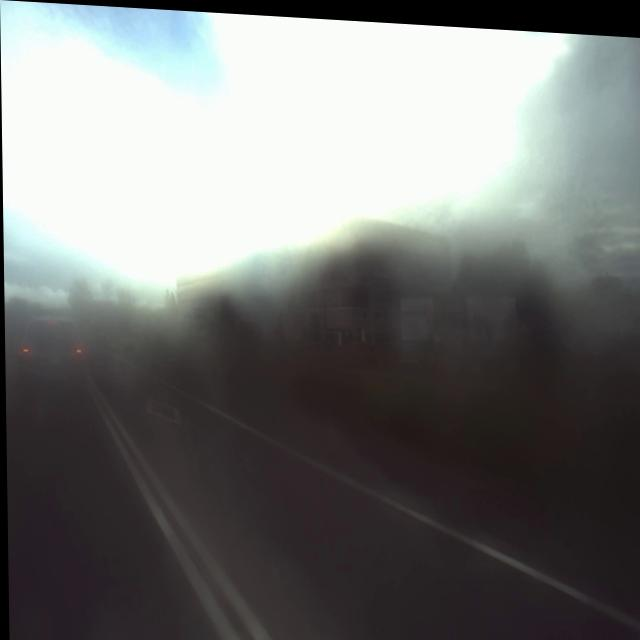car: (11, 301, 87, 411)
